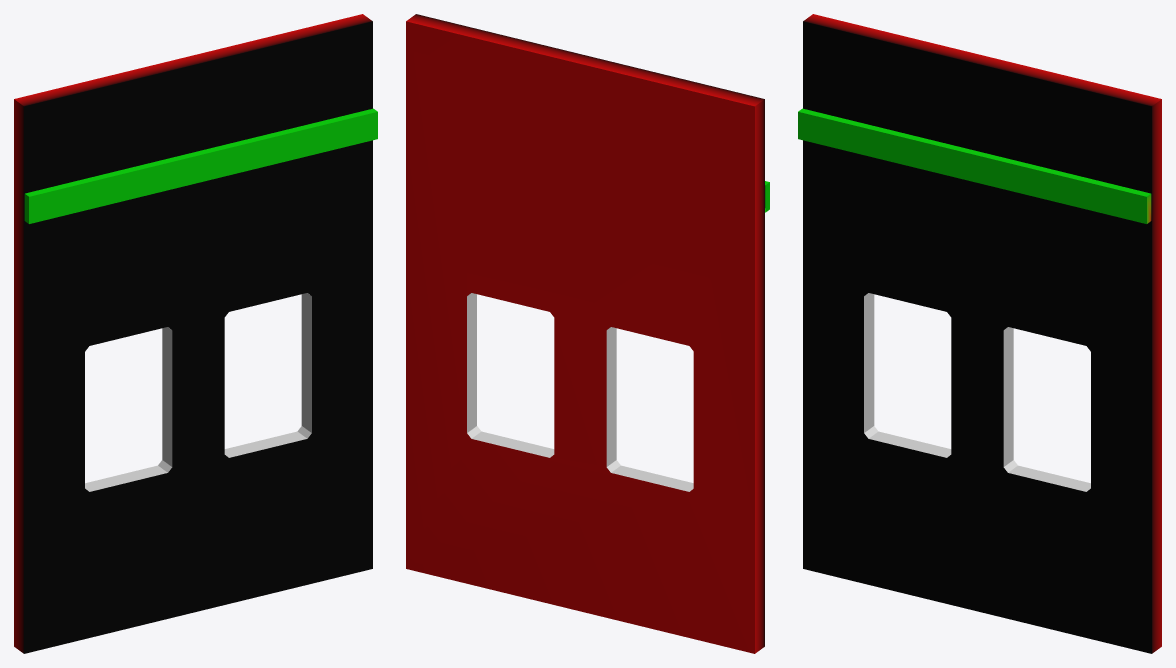
File: FlatWallUpper-Windows.fbx
3 views of the same model, side by side, from view 1: azimuth 30°, elevation 25°; view 2: azimuth 150°, elevation 25°; view 3: azimuth 330°, elevation 25° (orthographic).
Visible parts, largest first — view 1: FlatBase_2Windows, FlatBaseWall_1, Cube, Cube_1; view 2: FlatBase_2Windows, Cube, Cube_1; view 3: FlatBase_2Windows, FlatBaseWall_1, Cube_1, Cube.
Boxes of the visible parts, bbox=[...] form: FlatBase_2Windows: bbox=[14, 14, 372, 653]; FlatBaseWall_1: bbox=[24, 108, 377, 223]; Cube: bbox=[85, 327, 172, 491]; Cube_1: bbox=[224, 293, 311, 457]; FlatBase_2Windows: bbox=[406, 14, 764, 653]; Cube: bbox=[606, 327, 693, 491]; Cube_1: bbox=[467, 293, 554, 457]; FlatBase_2Windows: bbox=[803, 14, 1161, 653]; FlatBaseWall_1: bbox=[798, 108, 1151, 223]; Cube_1: bbox=[1003, 327, 1090, 491]; Cube: bbox=[864, 293, 951, 457].
Bounding box in the file's own units: 400 × 600 × 30.
